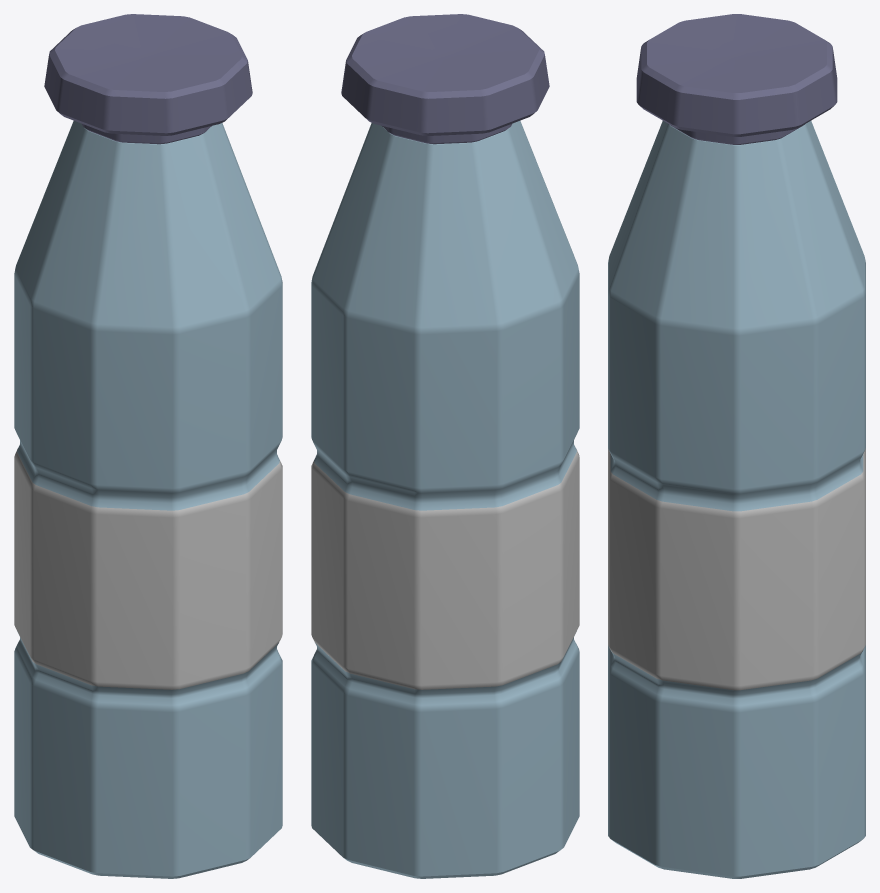
Rendered from WaterBottle.fbx.
3 views of the same model, side by side, from view 1: azimuth 30°, elevation 25°; view 2: azimuth 150°, elevation 25°; view 3: azimuth 270°, elevation 25° (orthographic).
Visible parts, largest first — view 1: group2; view 2: group2; view 3: group2.
Part boxes in pixels (left/top/right/bottom): group2: left=14, top=14, right=282, bottom=878; group2: left=311, top=14, right=579, bottom=878; group2: left=608, top=14, right=865, bottom=878.
Bounding box in the file's own units: 1.98 × 6.27 × 1.9.
